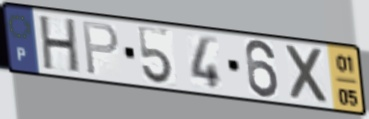4: (188, 33, 225, 91)
5: (135, 24, 175, 88)
6: (243, 38, 280, 100)
H: (38, 14, 82, 76)
P: (80, 19, 121, 77)
X: (283, 42, 331, 107)
